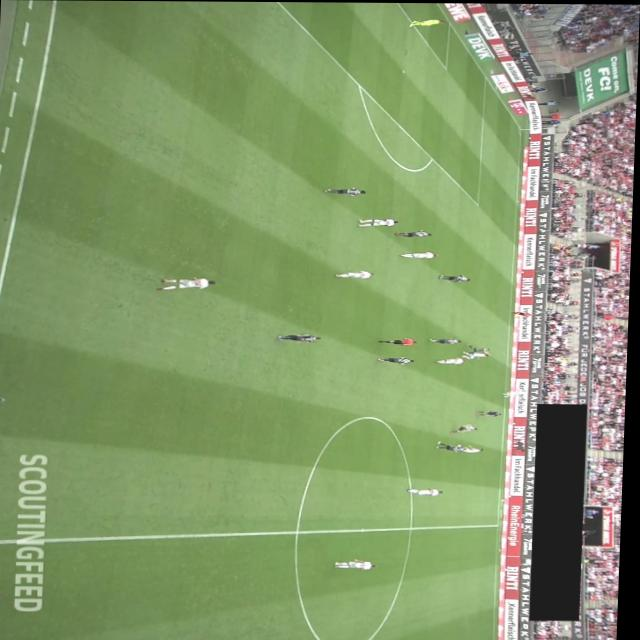goalkeeper: (407, 18, 446, 27)
player: (158, 277, 218, 291), (338, 559, 381, 570), (279, 333, 323, 343), (358, 218, 401, 227), (400, 250, 440, 259), (324, 187, 367, 195), (395, 229, 433, 238), (409, 487, 447, 496), (336, 270, 378, 278), (438, 441, 470, 451), (378, 356, 417, 364), (452, 424, 480, 434), (469, 344, 493, 354), (436, 357, 469, 364), (464, 351, 492, 359), (440, 274, 472, 281), (505, 387, 527, 397), (461, 444, 487, 452), (478, 409, 504, 417), (430, 338, 464, 344)
referee: (380, 337, 420, 346), (514, 310, 534, 316), (0, 593, 8, 602)
